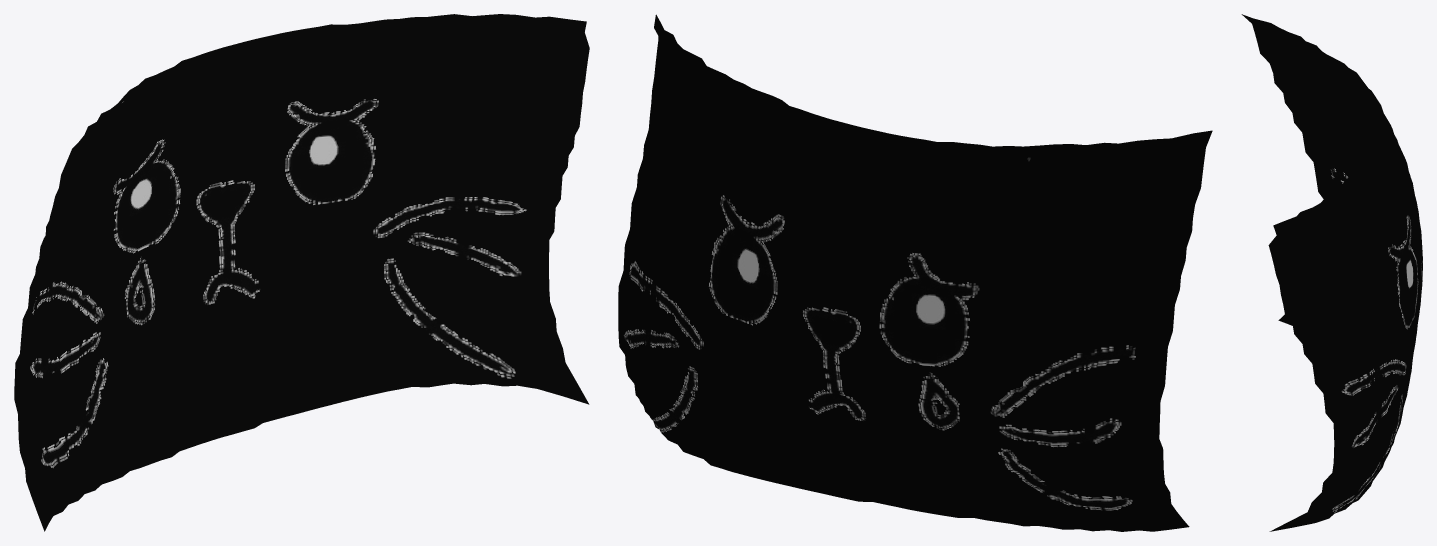
Rendered from cara_2.glb.
3 renders of one model, left to right at view 1: azimuth 30°, elevation 25°; view 2: azimuth 150°, elevation 25°; view 3: azimuth 270°, elevation 25°, orthographic. The views are drawn at different scales.
Size of the model in its own units: 0.8 by 0.5406 by 0.2904.
Materials: 1 (1 with a texture image).
